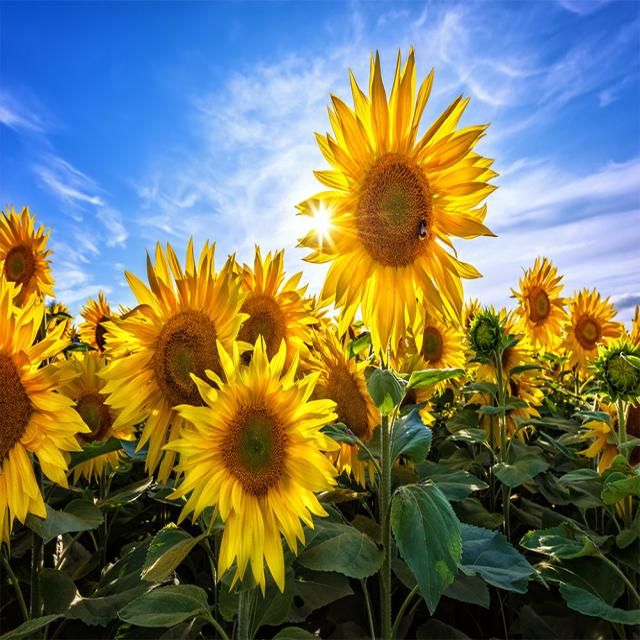sunflower: (286, 38, 497, 386), (161, 332, 348, 596), (85, 232, 247, 472), (0, 206, 59, 333), (394, 304, 470, 398), (560, 282, 624, 385), (514, 250, 568, 366)
